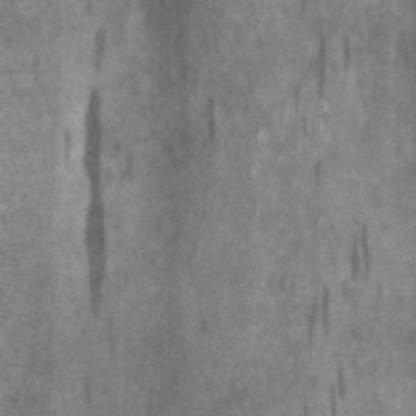inclusion: (56, 69, 114, 320), (302, 214, 372, 339), (302, 23, 352, 98), (190, 77, 223, 156), (310, 362, 358, 412)
